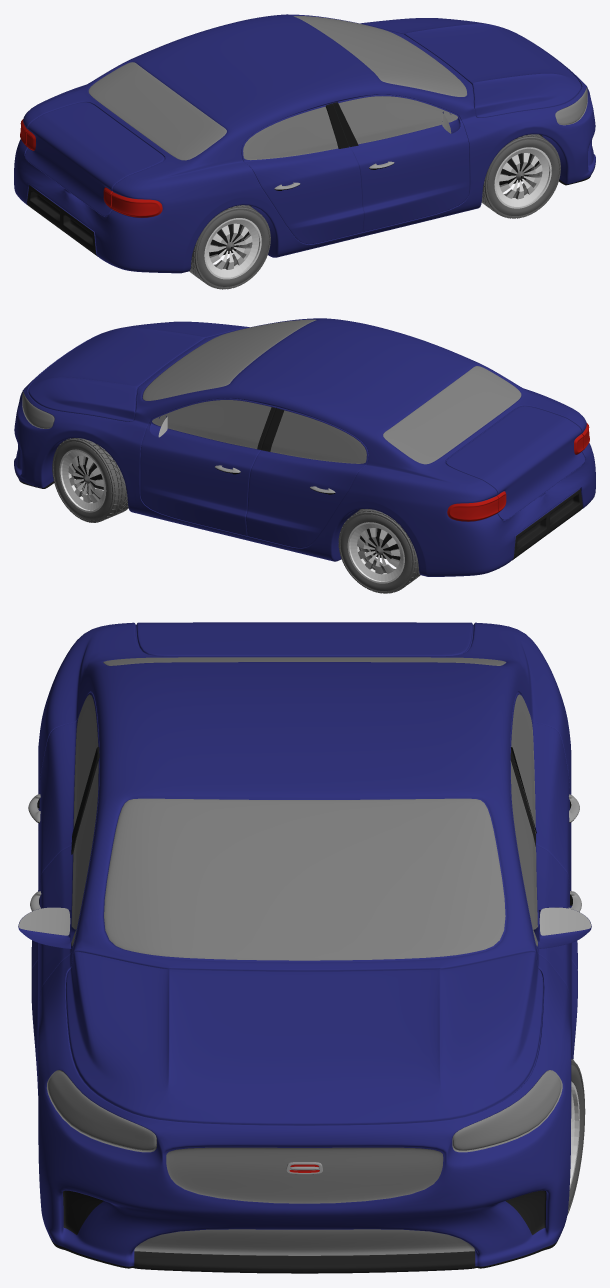
File: BlueCar.fbx
3 views of the same model, one above another, from view 1: azimuth 30°, elevation 25°; view 2: azimuth 150°, elevation 25°; view 3: azimuth 270°, elevation 25° (orthographic). The views are drawn at different scales.
Visible parts, largest first — view 1: carr, roda.000, roda.001, interior-preenchimento, MOLDURAPORTA; view 2: carr, roda.002, roda.003, interior-preenchimento; view 3: carr, Retrovisor.001, roda.003.
Part boxes in pixels (x1,y1,x2,y2): carr: (14, 14, 595, 273); roda.000: (189, 205, 270, 289); roda.001: (481, 134, 560, 218); interior-preenchimento: (209, 134, 542, 256); MOLDURAPORTA: (326, 102, 358, 148); carr: (14, 318, 595, 576); roda.002: (338, 509, 420, 593); roda.003: (52, 438, 128, 522); interior-preenchimento: (72, 456, 400, 560); carr: (31, 622, 577, 1273); Retrovisor.001: (18, 907, 591, 948); roda.003: (567, 1058, 585, 1215).
Bounding box in the file's own units: 442 × 135 × 220.
